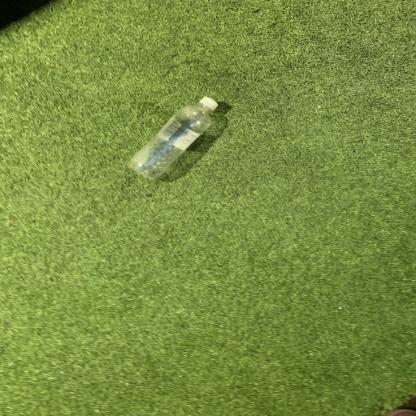trash: (126, 96, 218, 181)
